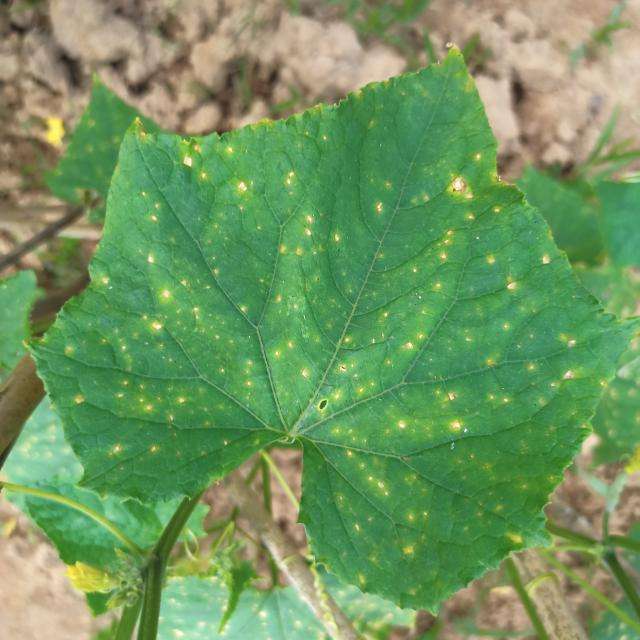disease_cucumber: (102, 94, 575, 578)
